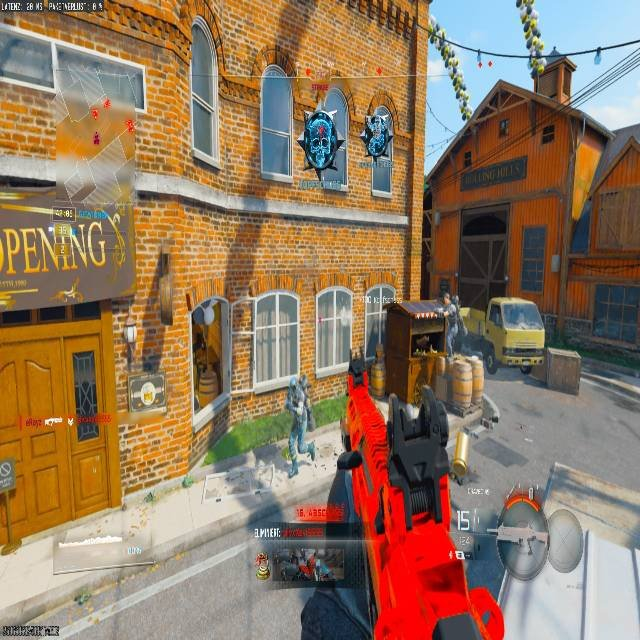player: (284, 375, 315, 470), (361, 104, 393, 163)
